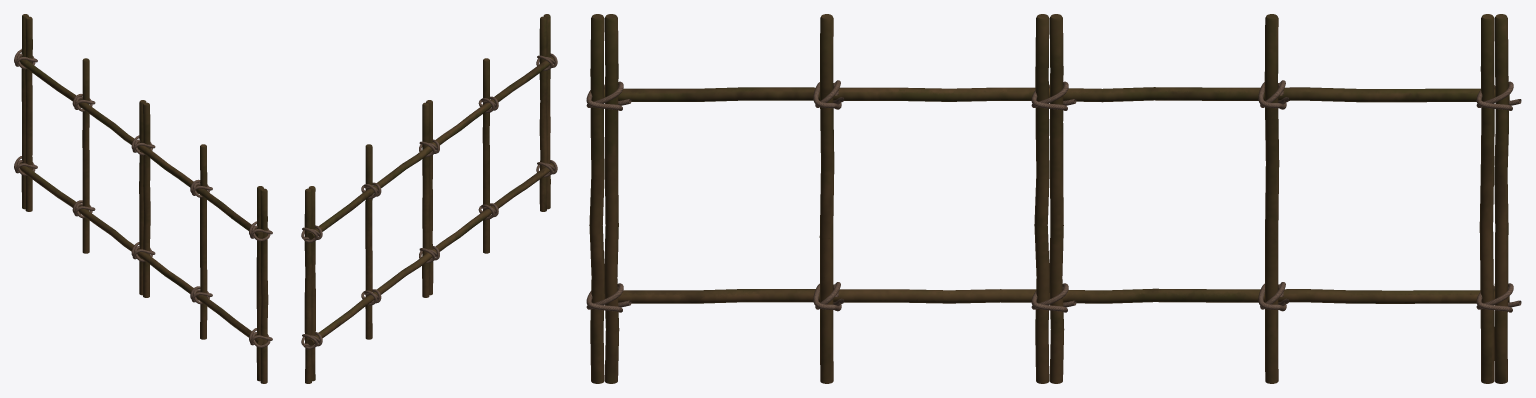
The model's file is Wooden Farm Fence.fbx.
3 views of the same model, side by side, from view 1: azimuth 30°, elevation 25°; view 2: azimuth 150°, elevation 25°; view 3: azimuth 270°, elevation 25° (orthographic). The views are drawn at different scales.
Visible parts, largest first — view 1: Wooden Fence, Rope - Double, Rope - Single; view 2: Wooden Fence, Rope - Double, Rope - Single; view 3: Wooden Fence, Rope - Double, Rope - Single.
Boxes of the visible parts, <box> form: Wooden Fence: <box>20,14,268,383</box>; Rope - Double: <box>14,49,272,347</box>; Rope - Single: <box>72,94,212,304</box>; Wooden Fence: <box>304,14,554,383</box>; Rope - Double: <box>301,53,557,349</box>; Rope - Single: <box>361,96,498,305</box>; Wooden Fence: <box>589,14,1509,383</box>; Rope - Double: <box>586,81,1521,312</box>; Rope - Single: <box>813,80,1289,311</box>.
Bounding box in the file's own units: 9.65 × 90.45 × 210.
9 materials, 9 textured.
